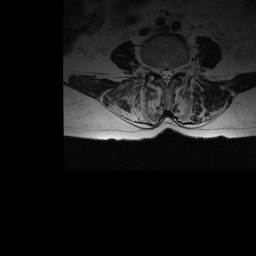CCS_normal: (163, 62, 169, 91)
LFS_normal: (175, 59, 181, 78)
LLS_normal: (169, 61, 175, 83)
RFS_stenosis: (152, 59, 157, 80)
RLS_normal: (157, 60, 164, 83)
